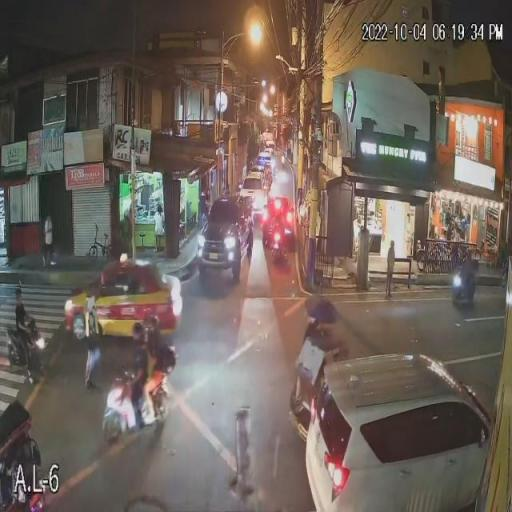helmet: (131, 320, 146, 343), (147, 314, 161, 328)
motorcycle: (102, 360, 174, 446), (6, 322, 48, 386), (451, 270, 477, 306), (267, 234, 289, 264)
rider: (120, 315, 158, 408), (144, 316, 178, 401), (14, 284, 38, 351), (458, 252, 479, 289), (265, 214, 286, 247)
